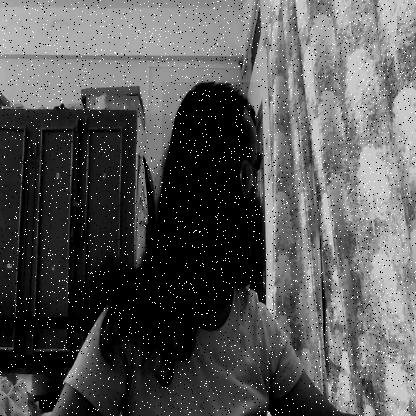Distracted: (162, 82, 260, 273)
